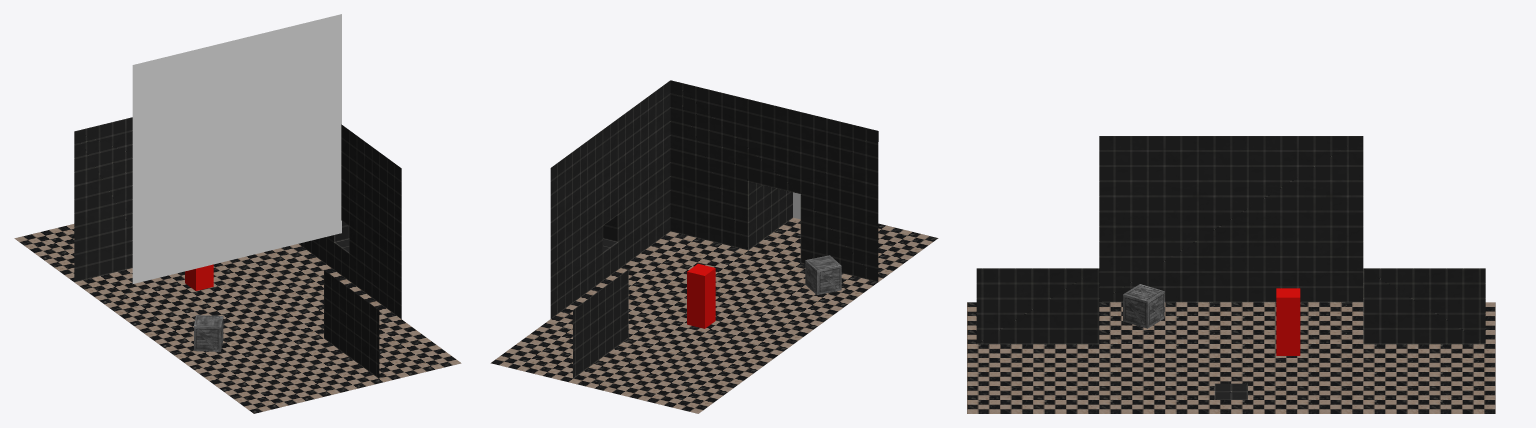
File: room.glb
The picture shows the model from 3 angles, left to right: view 1: azimuth 30°, elevation 25°; view 2: azimuth 150°, elevation 25°; view 3: azimuth 270°, elevation 25°; orthographic projection. The views are drawn at different scales.
Parts seen in each view (by area): view 1: Room, RoofPortal, Crate, Player; view 2: Room, Player, Crate; view 3: Room, Player, Crate.
Boxes of the visible parts, left/top/right/bottom form: Room: left=14, top=117, right=461, bottom=413; RoofPortal: left=132, top=14, right=341, bottom=283; Crate: left=194, top=315, right=223, bottom=351; Player: left=185, top=264, right=213, bottom=290; Room: left=490, top=80, right=938, bottom=413; Player: left=687, top=263, right=715, bottom=328; Crate: left=805, top=255, right=841, bottom=294; Room: left=967, top=136, right=1495, bottom=413; Player: left=1276, top=288, right=1300, bottom=355; Crate: left=1123, top=284, right=1164, bottom=328.
Bounding box in the file's own units: 9.46 × 9.93 × 17.24.
Materials: 4 (3 with a texture image).
